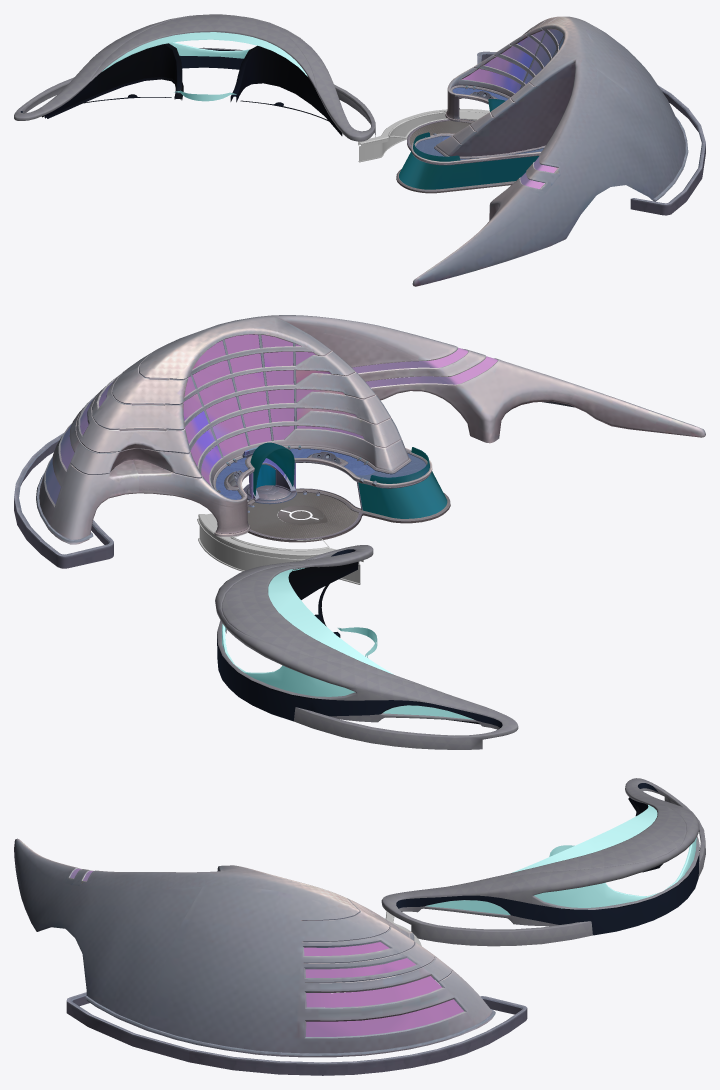
The model's file is pref_sm_4v4pointbake_WSJ_CSD_L_lv1.fbx.
3 views of the same model, one above another, from view 1: azimuth 30°, elevation 25°; view 2: azimuth 150°, elevation 25°; view 3: azimuth 270°, elevation 25° (orthographic). The views are drawn at different scales.
Visible parts, largest first — view 1: sm_4v4pointbake_WSJ_CSD_L_a_lv1, sm_4v4pointbake_WSJ_CSD_L_g_lv1, sm_4v4pointbake_WSJ_CSD_L_h_lv1, sm_4v4pointbake_WSJ_CSD_L_b_lv1, sm_4v4pointbake_WSJ_CSD_L_i_lv1, sm_4v4pointbake_WSJ_CSD_L_j_lv1, sm_4v4pointbake_WSJ_CSD_L_f_lv1; view 2: sm_4v4pointbake_WSJ_CSD_L_a_lv1, sm_4v4pointbake_WSJ_CSD_L_b_lv1, sm_4v4pointbake_WSJ_CSD_L_g_lv1, sm_4v4pointbake_WSJ_CSD_L_h_lv1, sm_4v4pointbake_WSJ_CSD_L_i_lv1, sm_4v4pointbake_WSJ_CSD_L_j_lv1, sm_4v4pointbake_WSJ_CSD_L_f_lv1, sm_4v4pointbake_WSJ_CSD_L_d_lv1; view 3: sm_4v4pointbake_WSJ_CSD_L_a_lv1, sm_4v4pointbake_WSJ_CSD_L_g_lv1, sm_4v4pointbake_WSJ_CSD_L_b_lv1, sm_4v4pointbake_WSJ_CSD_L_h_lv1, sm_4v4pointbake_WSJ_CSD_L_i_lv1.
Boxes of the visible parts, box(x1,y1,x2,y2) form: sm_4v4pointbake_WSJ_CSD_L_a_lv1: box(396, 16, 705, 286); sm_4v4pointbake_WSJ_CSD_L_g_lv1: box(14, 14, 375, 141); sm_4v4pointbake_WSJ_CSD_L_h_lv1: box(20, 43, 342, 135); sm_4v4pointbake_WSJ_CSD_L_b_lv1: box(399, 29, 563, 189); sm_4v4pointbake_WSJ_CSD_L_i_lv1: box(102, 32, 307, 101); sm_4v4pointbake_WSJ_CSD_L_j_lv1: box(358, 109, 489, 162); sm_4v4pointbake_WSJ_CSD_L_f_lv1: box(409, 120, 470, 145); sm_4v4pointbake_WSJ_CSD_L_a_lv1: box(14, 315, 705, 568); sm_4v4pointbake_WSJ_CSD_L_b_lv1: box(45, 334, 497, 518); sm_4v4pointbake_WSJ_CSD_L_g_lv1: box(215, 545, 518, 749); sm_4v4pointbake_WSJ_CSD_L_h_lv1: box(217, 549, 502, 730); sm_4v4pointbake_WSJ_CSD_L_i_lv1: box(222, 568, 473, 719); sm_4v4pointbake_WSJ_CSD_L_j_lv1: box(197, 513, 363, 584); sm_4v4pointbake_WSJ_CSD_L_f_lv1: box(247, 492, 358, 538); sm_4v4pointbake_WSJ_CSD_L_d_lv1: box(277, 505, 323, 524); sm_4v4pointbake_WSJ_CSD_L_a_lv1: box(14, 838, 527, 1075); sm_4v4pointbake_WSJ_CSD_L_g_lv1: box(381, 778, 705, 946); sm_4v4pointbake_WSJ_CSD_L_b_lv1: box(70, 868, 463, 1036); sm_4v4pointbake_WSJ_CSD_L_h_lv1: box(396, 783, 699, 935); sm_4v4pointbake_WSJ_CSD_L_i_lv1: box(426, 805, 696, 914).
Size of the model in its own units: 73.91 by 17.49 by 75.69.
